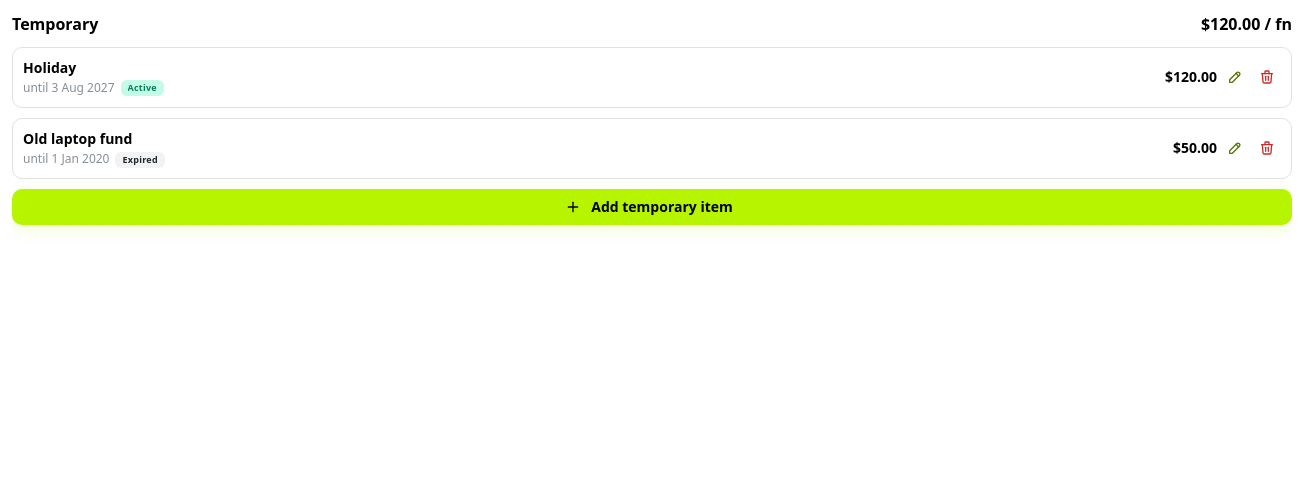
Test: TemporaryItemList › edits an item in place
Click the button named "edit" in the row of "Active": click(1235, 77) top-left (1221, 63), bottom-right (1249, 91)
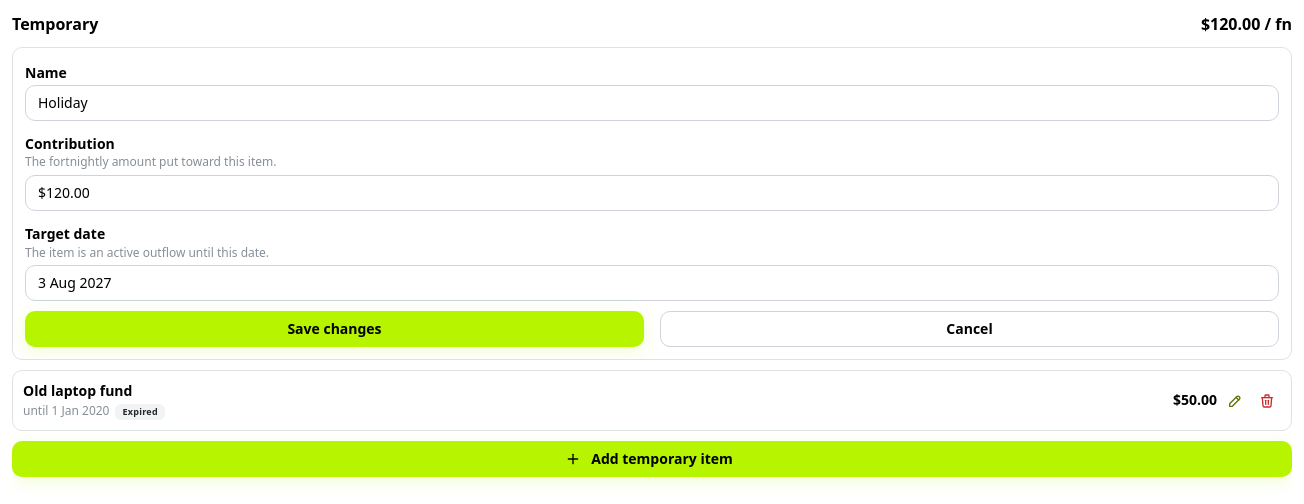
Result: the button "Save changes" is shown at top-left (25, 311), bottom-right (644, 347)
Result: the field labelled "Name" holds "Holiday" at top-left (25, 85), bottom-right (1279, 121)
